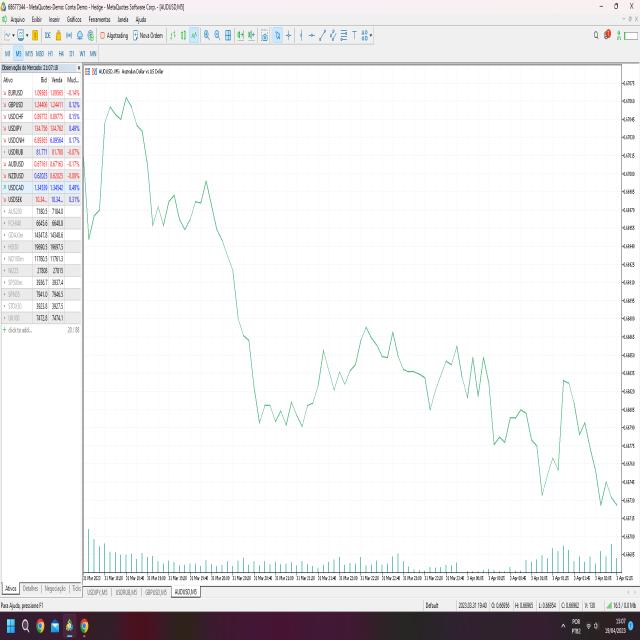bandeira_baixa: (136, 111, 203, 247)
